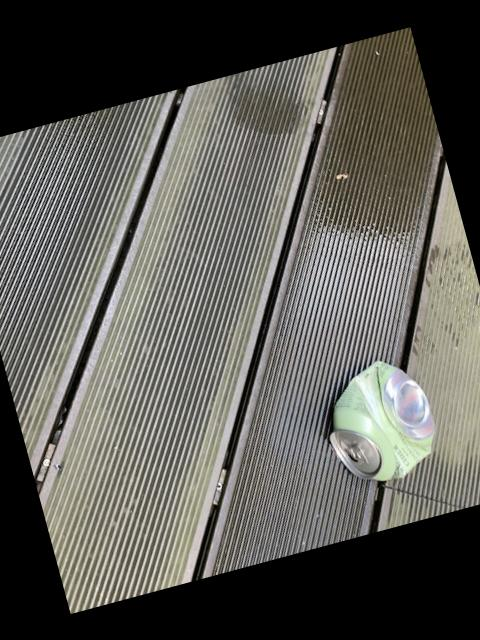metal: (330, 359, 436, 477)
